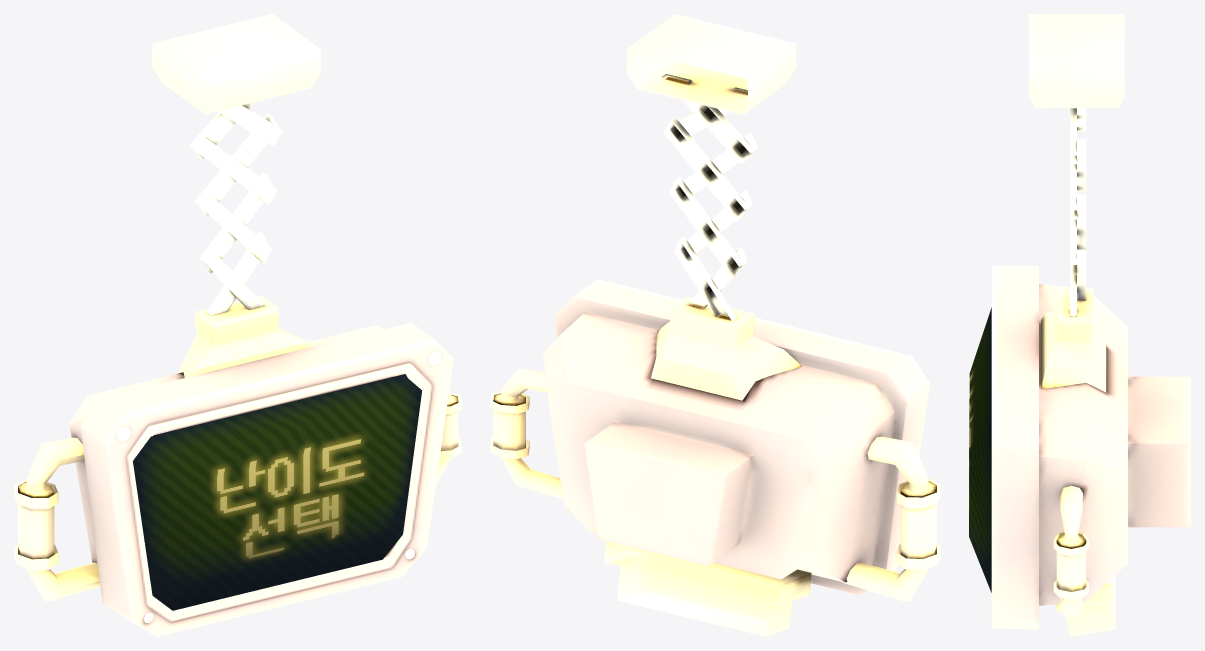
File: ui_TV_Select.fbx
3 views of the same model, side by side, from view 1: azimuth 30°, elevation 25°; view 2: azimuth 150°, elevation 25°; view 3: azimuth 270°, elevation 25° (orthographic).
Visible parts, largest first — view 1: ui_TV, ui_TV_Select_screen; view 2: ui_TV; view 3: ui_TV, ui_TV_Select_screen.
Part boxes in pixels (x1,y1,x2,y2): ui_TV: [14, 14, 461, 636]; ui_TV_Select_screen: [133, 374, 422, 610]; ui_TV: [490, 14, 940, 636]; ui_TV: [991, 14, 1190, 636]; ui_TV_Select_screen: [969, 307, 991, 592].
Size of the model in its own units: 512 by 620 by 223.
